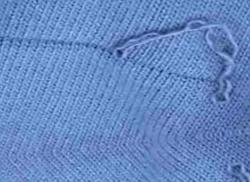snag: (97, 36, 149, 64)
